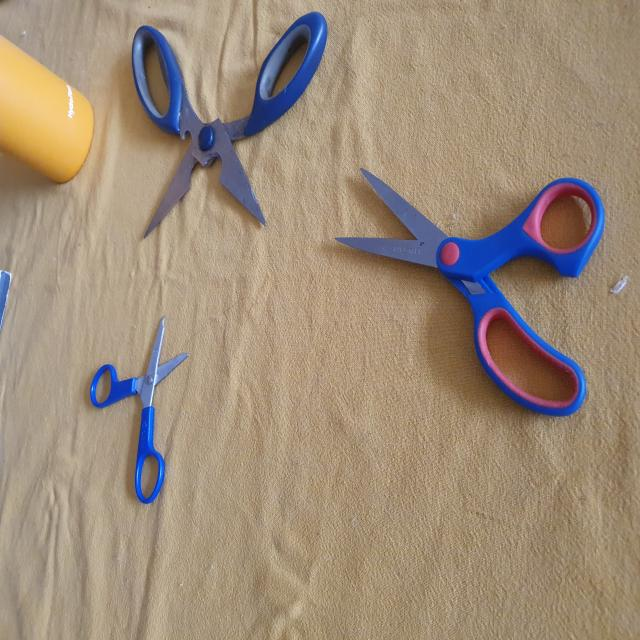scissors: (334, 160, 606, 422), (129, 5, 327, 240), (84, 312, 194, 513)
